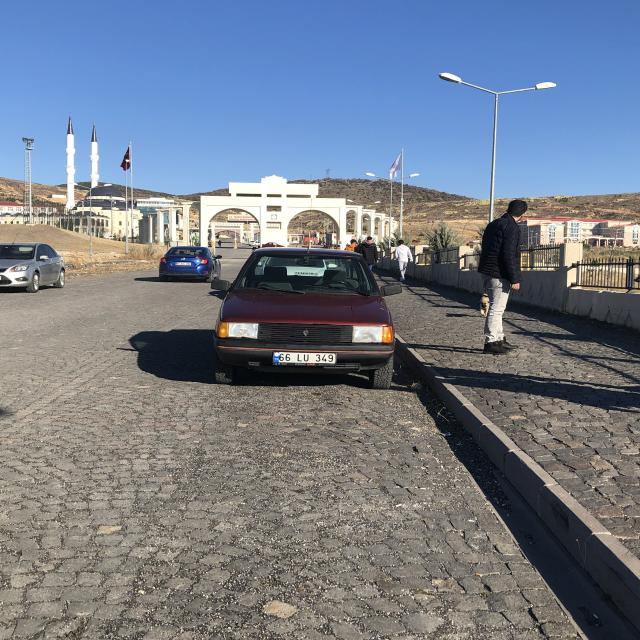license_plate: (274, 352, 336, 363)
